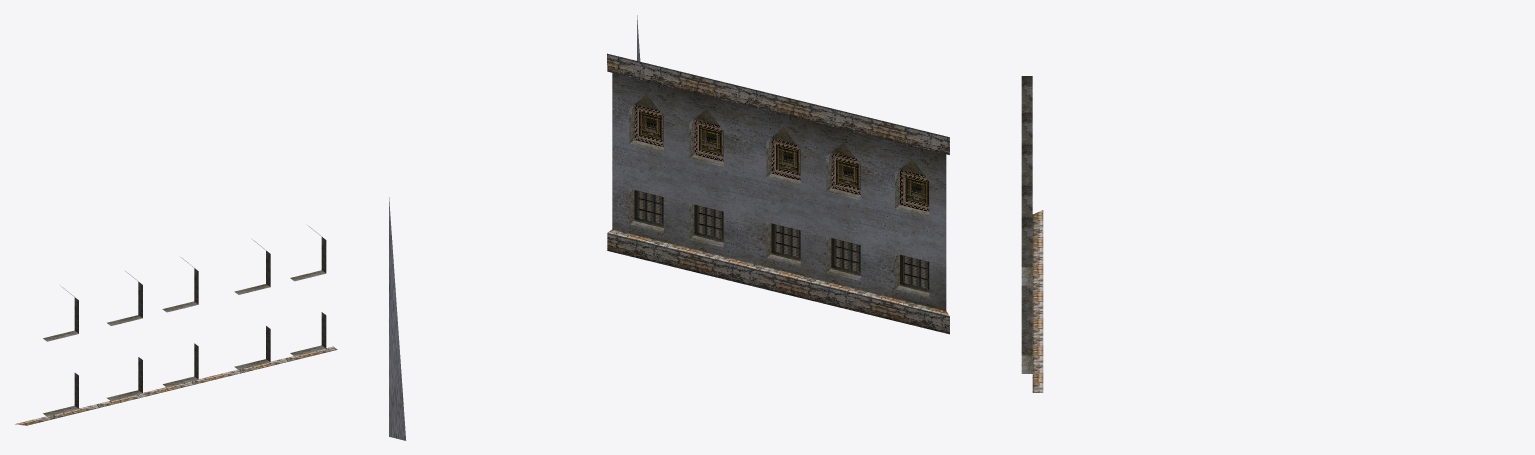
Rendered from M11Z1_Building08_A2.glb.
3 views of the same model, side by side, from view 1: azimuth 30°, elevation 25°; view 2: azimuth 150°, elevation 25°; view 3: azimuth 270°, elevation 25° (orthographic). The views are drawn at different scales.
Parts seen in each view (by area): view 1: M11Z1_BUILDING08_A2; view 2: M11Z1_BUILDING08_A2; view 3: M11Z1_BUILDING08_A2.
Part boxes in pixels (box(x1,y1,x2,y2)): M11Z1_BUILDING08_A2: box(15, 226, 337, 425); M11Z1_BUILDING08_A2: box(389, 15, 949, 440); M11Z1_BUILDING08_A2: box(1021, 76, 1043, 392).
Bounding box in the file's own units: 20.02 × 13.46 × 25.08.
5 materials, 5 textured.
